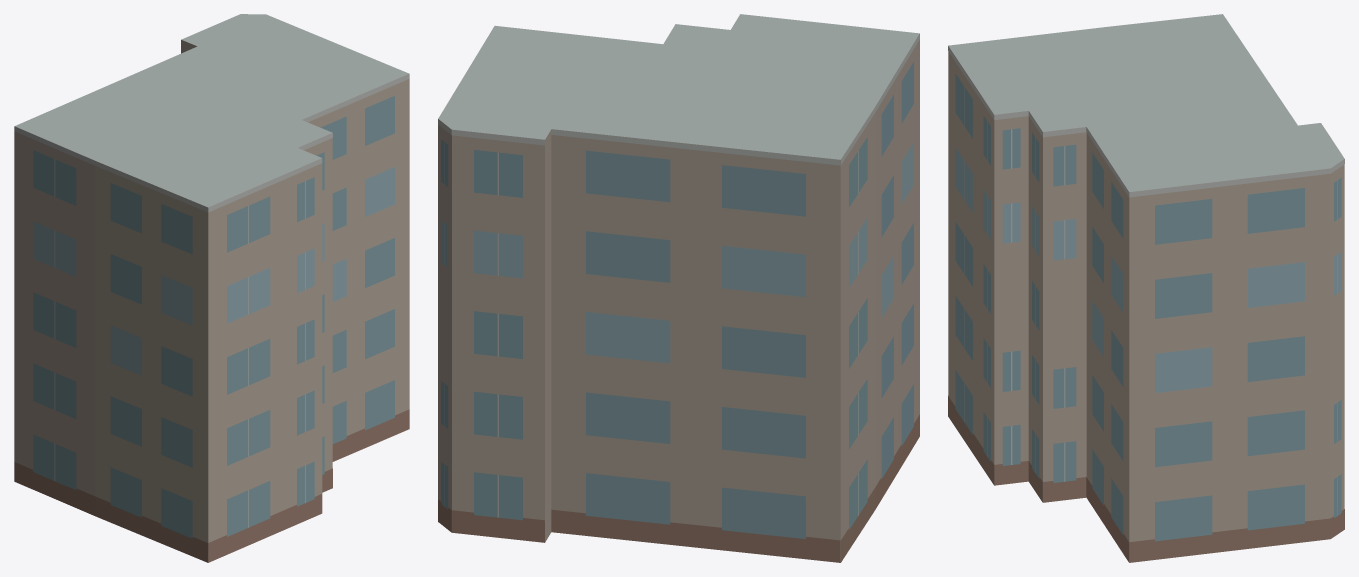
Rendered from survey-upis-32562684.glb.
The picture shows the model from 3 angles, left to right: view 1: azimuth 30°, elevation 25°; view 2: azimuth 150°, elevation 25°; view 3: azimuth 270°, elevation 25°; orthographic projection. The views are drawn at different scales.
Visible parts, largest first — view 1: survey-upis-32562684.tmp; view 2: survey-upis-32562684.tmp; view 3: survey-upis-32562684.tmp.
Part boxes in pixels (left/top/right/bottom): survey-upis-32562684.tmp: left=14, top=14, right=409, bottom=562; survey-upis-32562684.tmp: left=438, top=14, right=919, bottom=562; survey-upis-32562684.tmp: left=948, top=14, right=1344, bottom=562.
Bounding box in the file's own units: 17.74 × 17.2 × 16.69.
